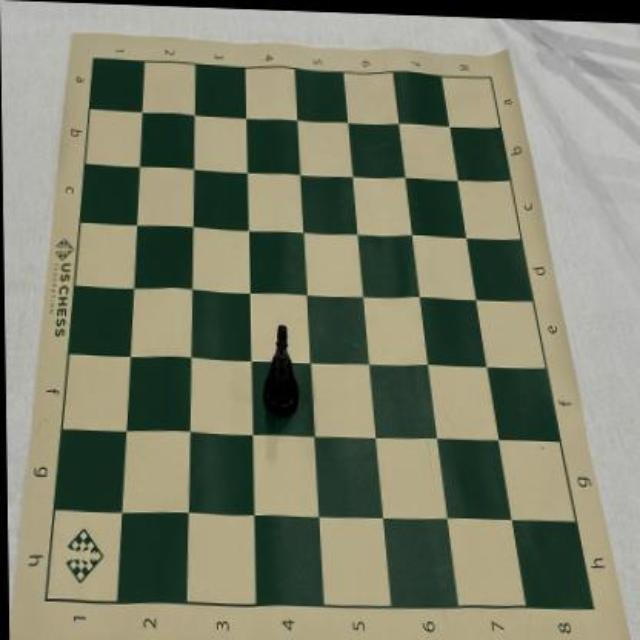black-knight: (260, 320, 298, 416)
